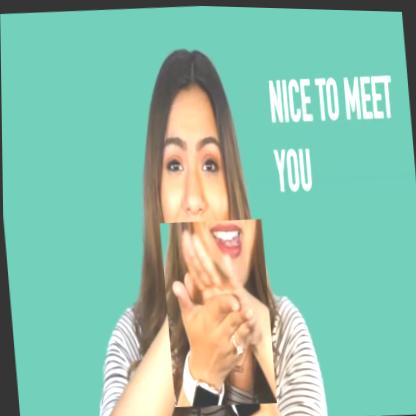NiceToMeetYou: (159, 215, 277, 409)
